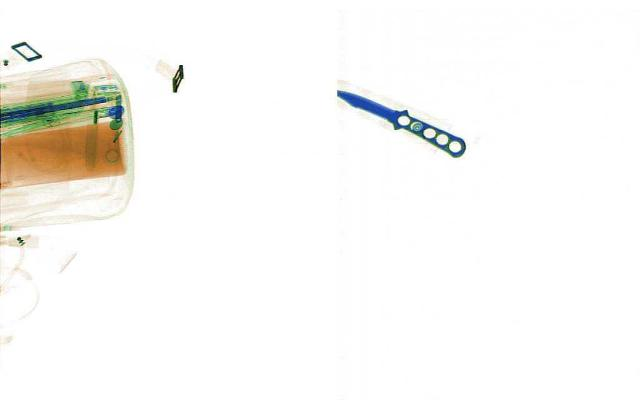Knife: (326, 84, 474, 156)
